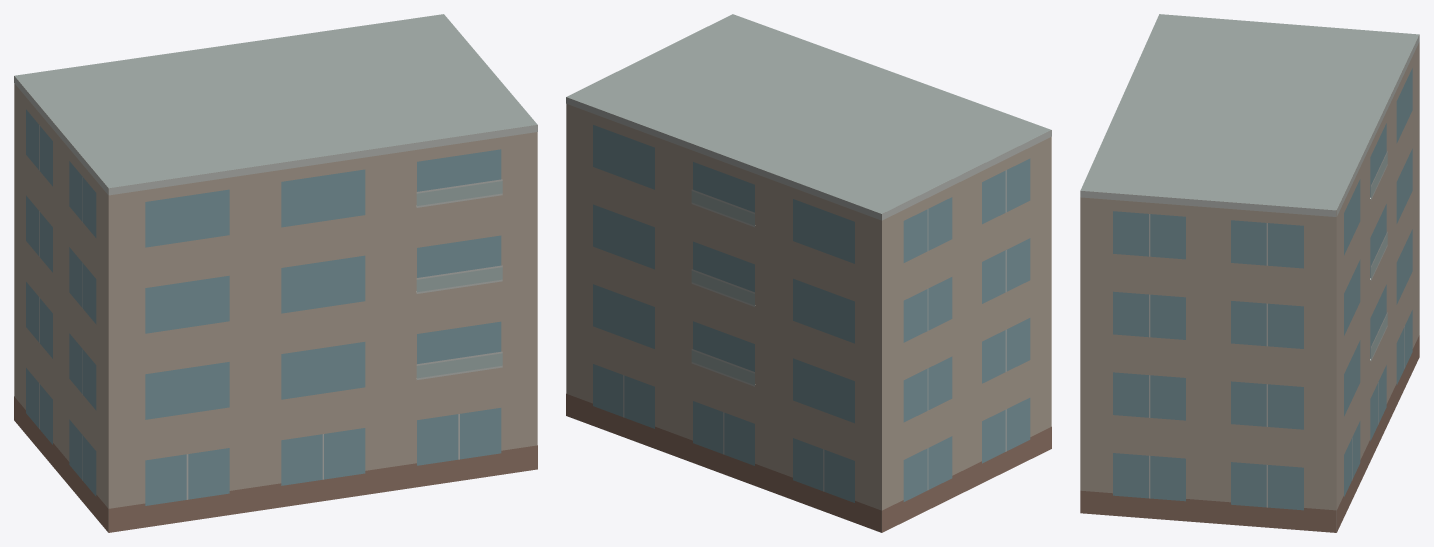
File: survey-upis-32511239.glb
3 renders of one model, left to right at view 1: azimuth 30°, elevation 25°; view 2: azimuth 150°, elevation 25°; view 3: azimuth 270°, elevation 25°, orthographic. The views are drawn at different scales.
Visible parts, largest first — view 1: survey-upis-32511239.tmp; view 2: survey-upis-32511239.tmp; view 3: survey-upis-32511239.tmp.
Boxes of the visible parts, <box> form: survey-upis-32511239.tmp: <box>14,14,537,532</box>; survey-upis-32511239.tmp: <box>566,14,1051,532</box>; survey-upis-32511239.tmp: <box>1080,14,1419,532</box>.
Size of the model in its own units: 15.36 by 11.75 by 11.22.
